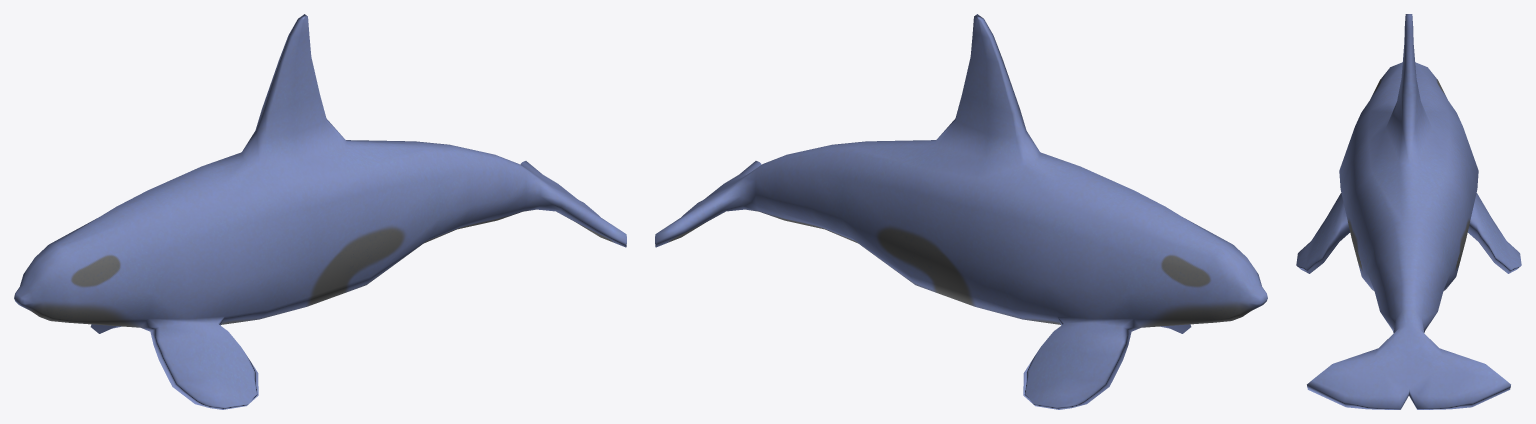
The model's file is Orca_Army.glb.
3 views of the same model, side by side, from view 1: azimuth 30°, elevation 25°; view 2: azimuth 150°, elevation 25°; view 3: azimuth 270°, elevation 25° (orthographic). The views are drawn at different scales.
Visible parts, largest first — view 1: pCube1; view 2: pCube1; view 3: pCube1.
Part boxes in pixels (x1,y1,x2,y2): pCube1: (14,14,626,409); pCube1: (655,14,1267,409); pCube1: (1296,14,1521,409).
Bounding box in the file's own units: 9.32 × 4.99 × 3.29.
Materials: 1 (1 with a texture image).
